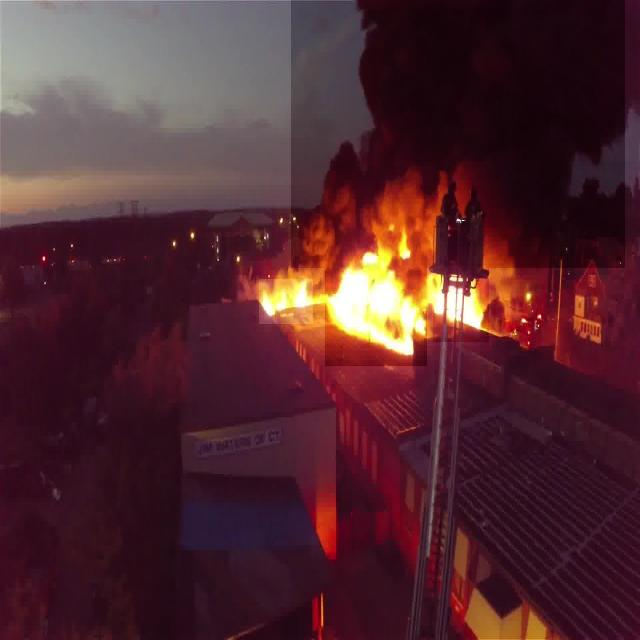Fire: (325, 250, 427, 366), (433, 266, 489, 342), (259, 279, 313, 324)
Smoke: (291, 0, 625, 268)
